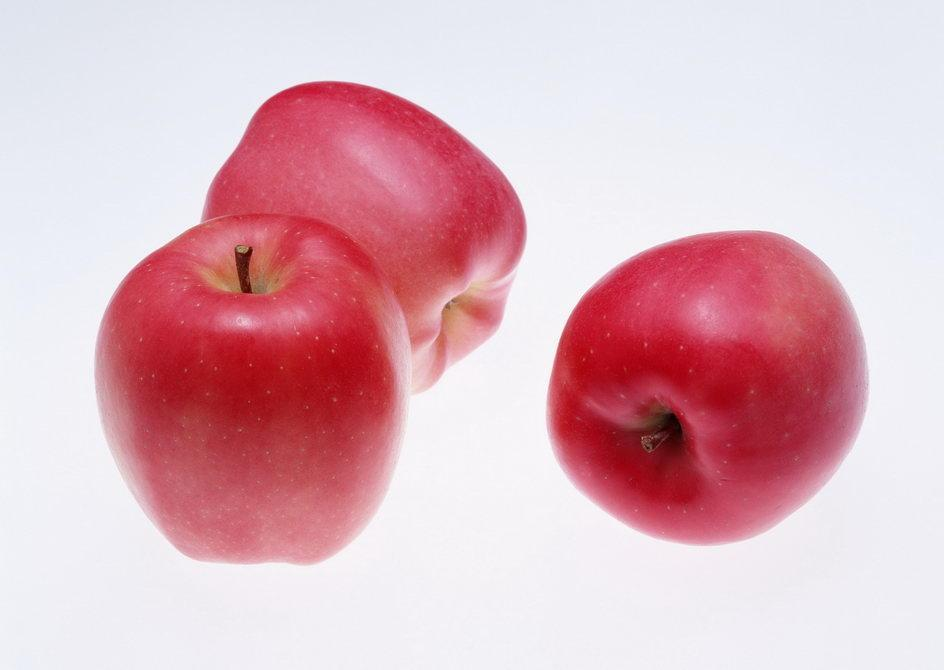apple: (94, 213, 414, 572), (541, 226, 871, 547), (202, 79, 530, 395)
